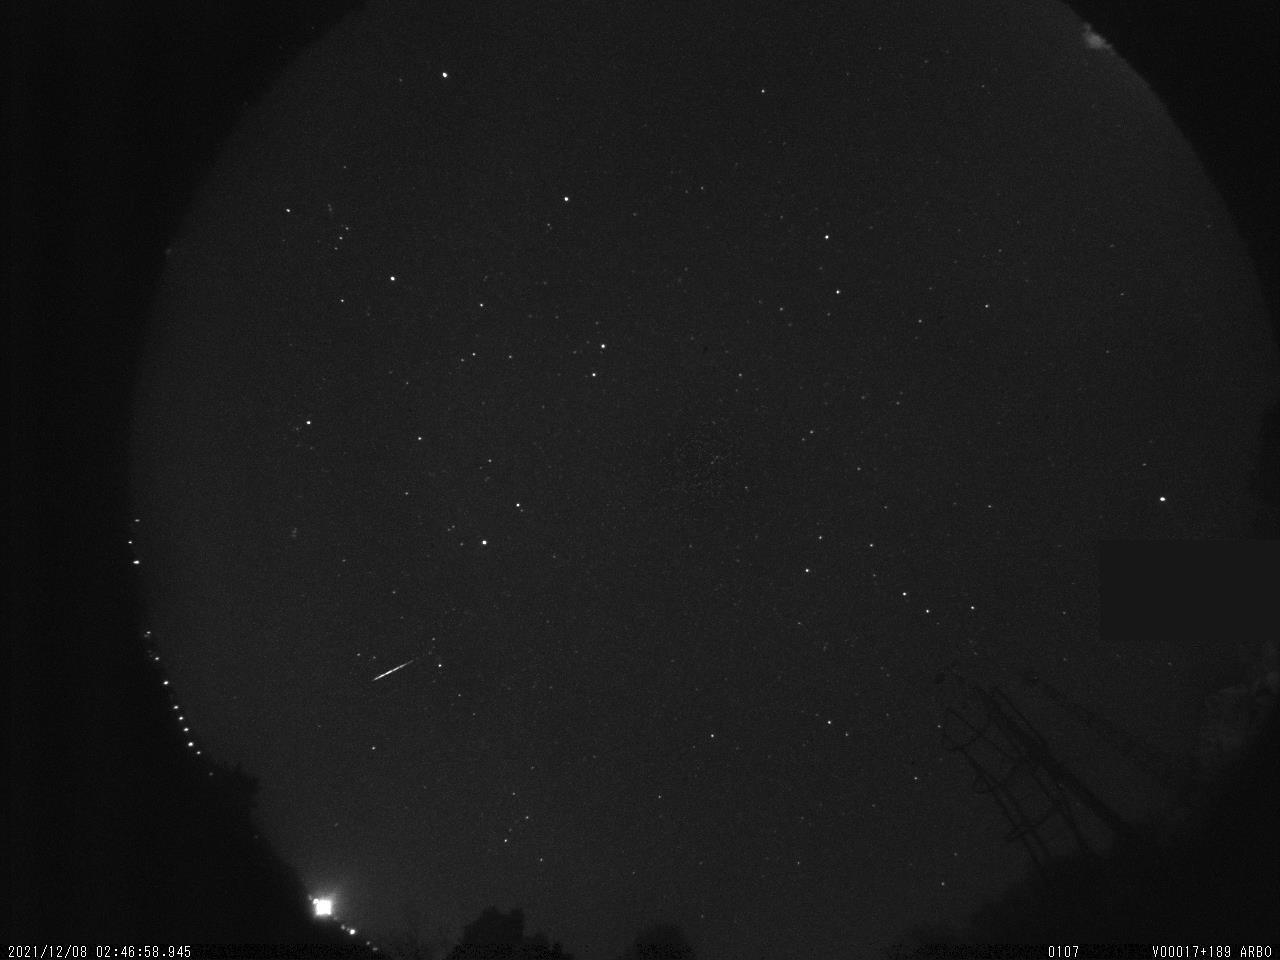meteor: (371, 642, 421, 694)
